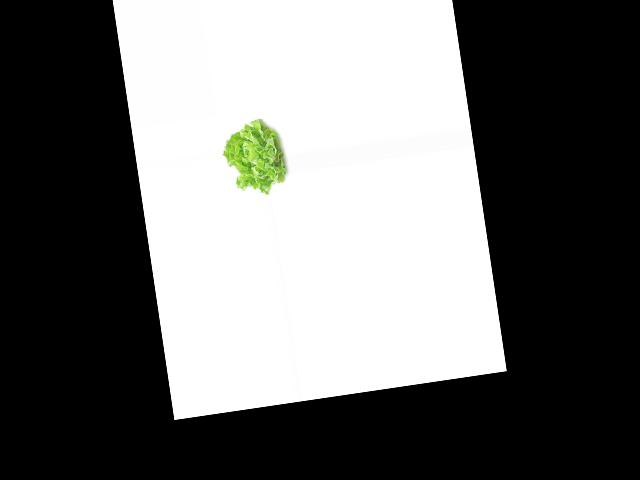lettuce: (219, 117, 291, 199)
